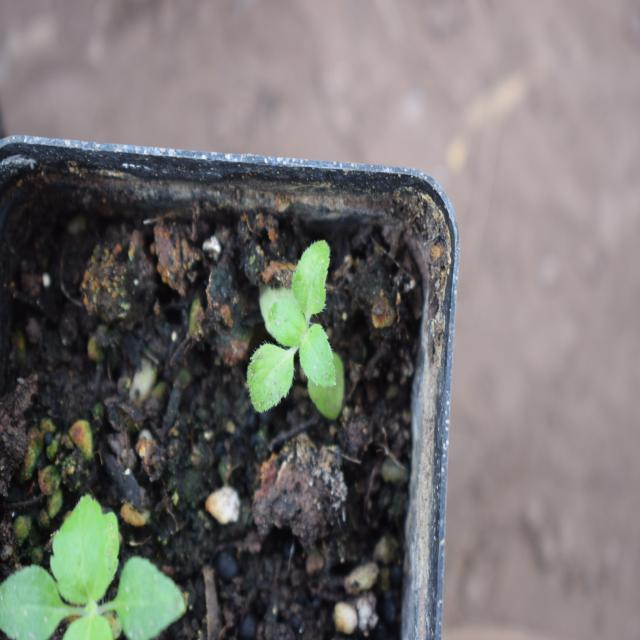billygoat_weed: (0, 498, 188, 636), (243, 240, 354, 419)
